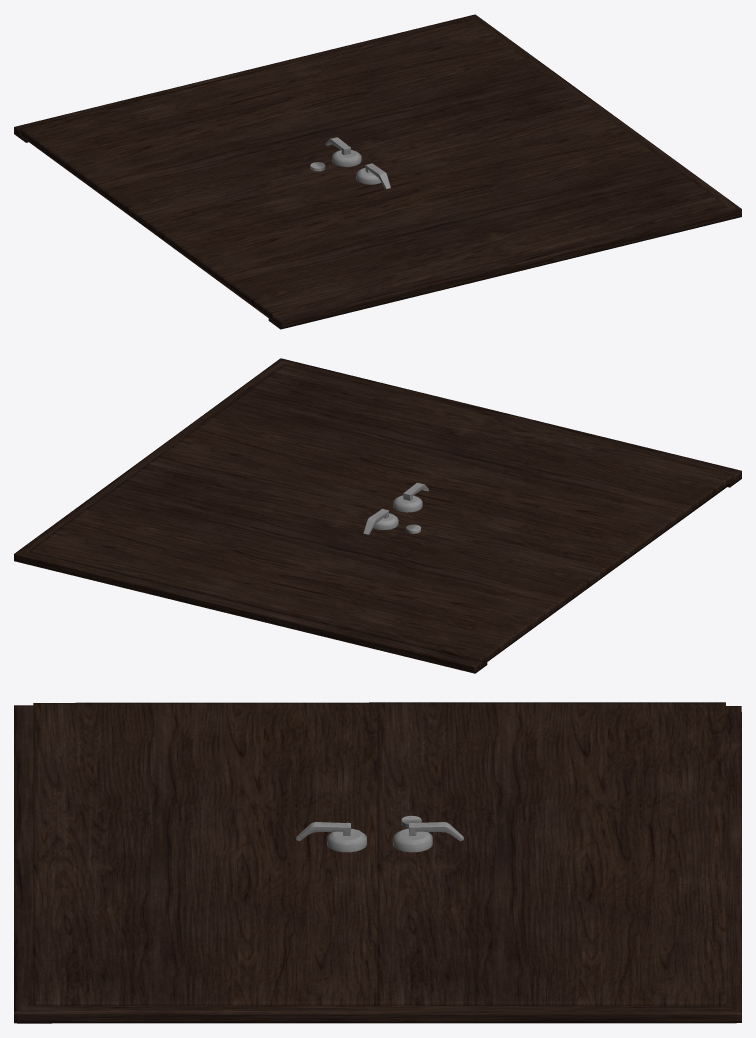
The model's file is SM_103_Door_91.fbx.
The picture shows the model from 3 angles, top to bottom: view 1: azimuth 30°, elevation 25°; view 2: azimuth 150°, elevation 25°; view 3: azimuth 270°, elevation 25°; orthographic projection. The views are drawn at different scales.
Visible parts, largest first — view 1: SM_103_Door_91; view 2: SM_103_Door_91; view 3: SM_103_Door_91.
Boxes of the visible parts, <box> form: SM_103_Door_91: <box>14,14,741,329</box>; SM_103_Door_91: <box>14,358,741,673</box>; SM_103_Door_91: <box>14,702,741,1023</box>.
Bounding box in the file's own units: 238 × 238 × 11.9.
Materials: 1 (1 with a texture image).
